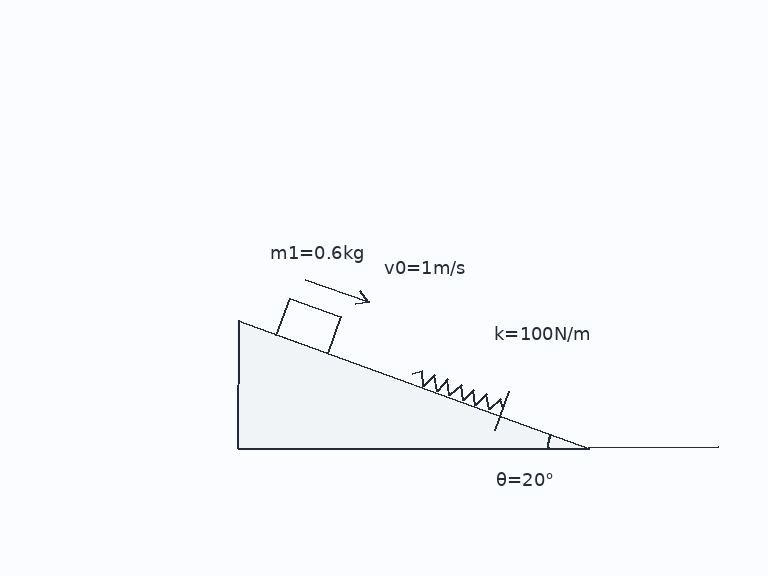block: (275, 296, 342, 355)
ramp: (235, 318, 590, 450)
spring: (410, 368, 505, 411)
